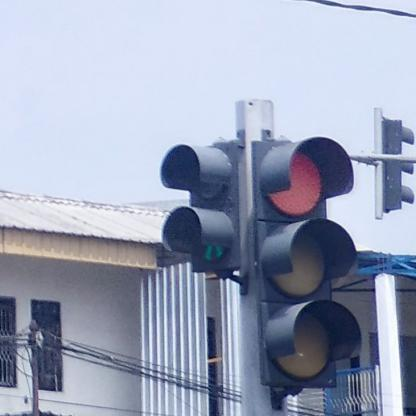red: (250, 136, 362, 389)
